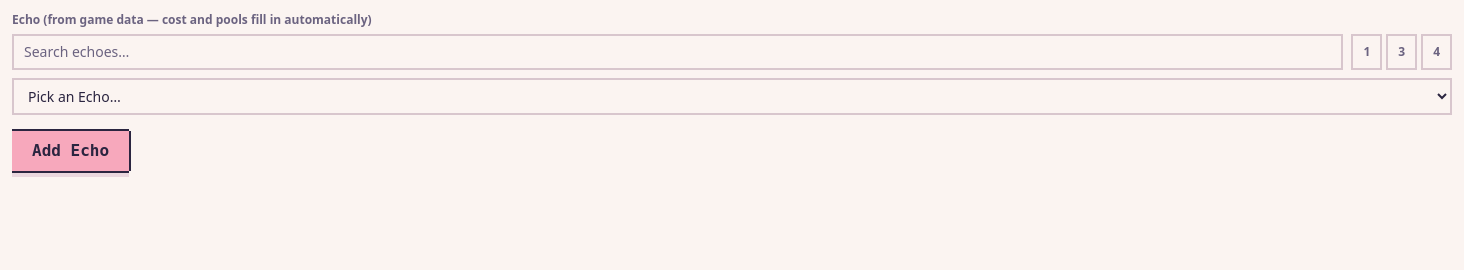
Scenario: EchoForm › blocks submit until an Echo is picked
Click the button "Add Echo" at [71, 151], box [12,131,129,171]
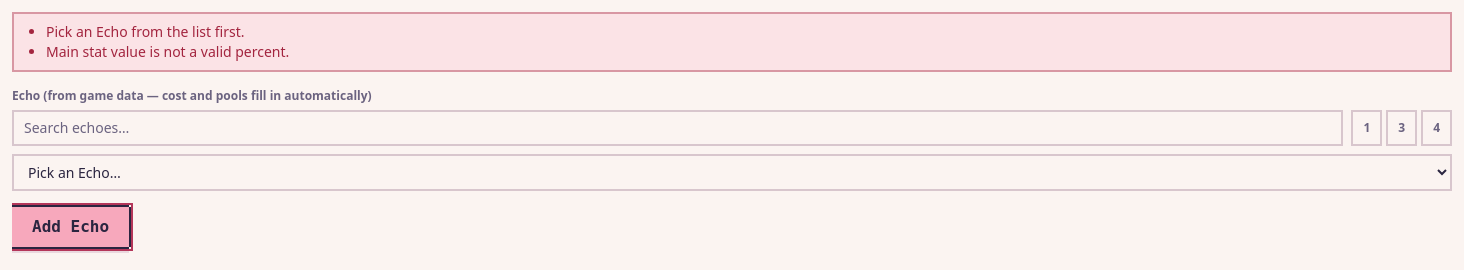
expect the message shows "Pick an Echo": met, box [46,22,244,41]
